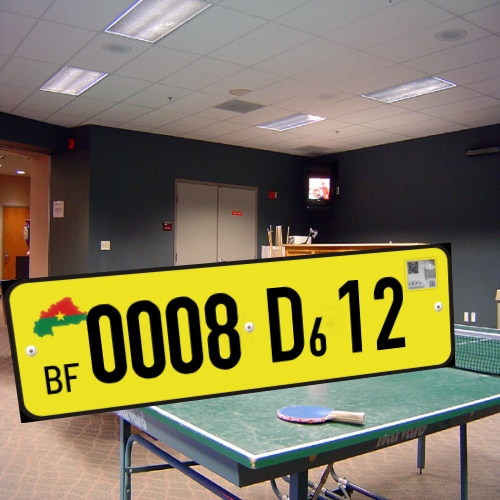plate: (5, 228, 464, 436)
